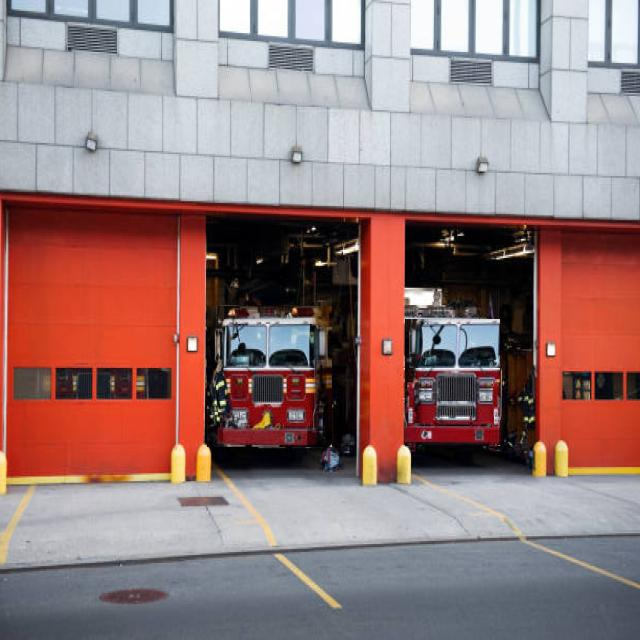emergency: (207, 307, 331, 447), (405, 319, 500, 446)
